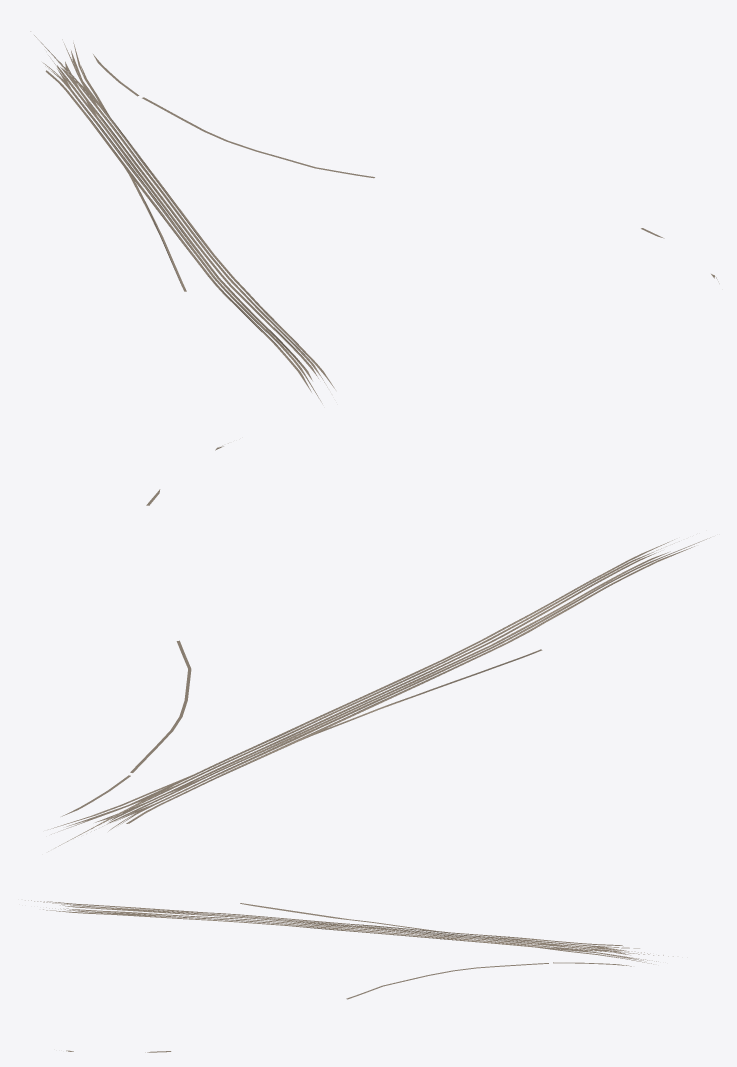
Rendered from rail_2_0.glb.
The picture shows the model from 3 angles, top to bottom: view 1: azimuth 30°, elevation 25°; view 2: azimuth 150°, elevation 25°; view 3: azimuth 270°, elevation 25°; orthographic projection. The views are drawn at different scales.
Parts seen in each view (by area): view 1: geometry_0; view 2: geometry_0; view 3: geometry_0.
Part boxes in pixels (box(x1,y1,x2,y2)): geometry_0: box(30, 31, 719, 403); geometry_0: box(48, 443, 710, 851); geometry_0: box(25, 900, 673, 1052).
Size of the model in its own units: 647 by 6.23 by 1261.
